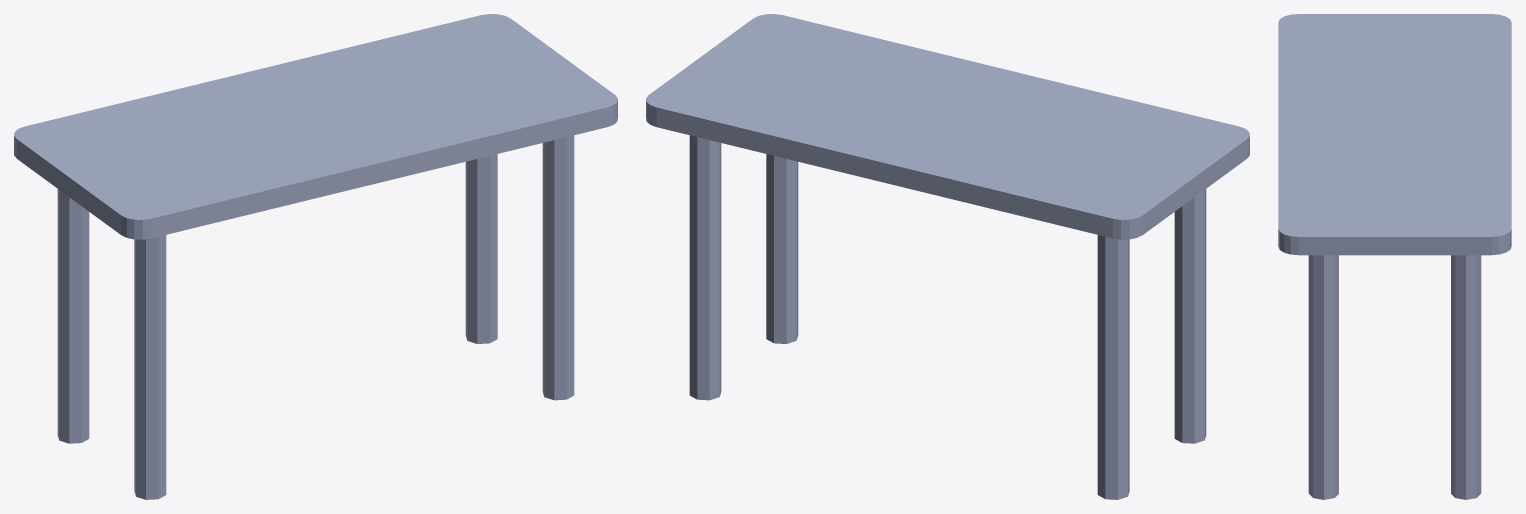
File: Plastic_Table.fbx
3 views of the same model, side by side, from view 1: azimuth 30°, elevation 25°; view 2: azimuth 150°, elevation 25°; view 3: azimuth 270°, elevation 25° (orthographic). The views are drawn at different scales.
Visible parts, largest first — view 1: Plastic Table; view 2: Plastic Table; view 3: Plastic Table.
Part boxes in pixels (x1,y1,x2,y2): Plastic Table: (14, 14, 617, 499); Plastic Table: (646, 14, 1249, 499); Plastic Table: (1278, 14, 1511, 499).
Bounding box in the file's own units: 760 × 439 × 336.
